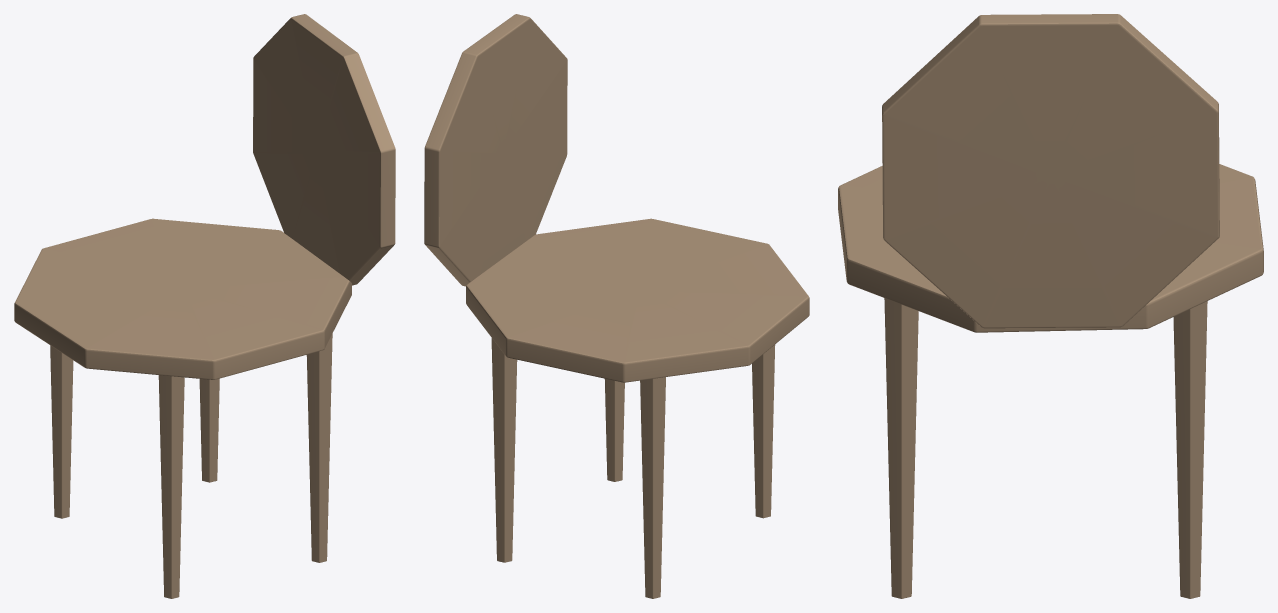
Rendered from Chair.fbx.
3 views of the same model, side by side, from view 1: azimuth 30°, elevation 25°; view 2: azimuth 150°, elevation 25°; view 3: azimuth 270°, elevation 25° (orthographic). The views are drawn at different scales.
Parts seen in each view (by area): view 1: pCylinder3, pCylinder4, pCylinder7, pCylinder9, pCylinder6, pCylinder8; view 2: pCylinder3, pCylinder4, pCylinder6, pCylinder8, pCylinder7, pCylinder9; view 3: pCylinder4, pCylinder3, pCylinder9, pCylinder8.
Part boxes in pixels (box(x1,y1,x2,y2)): pCylinder3: box(14, 218, 351, 379); pCylinder4: box(253, 14, 395, 285); pCylinder7: box(158, 375, 184, 598); pCylinder9: box(306, 333, 332, 562); pCylinder6: box(50, 345, 73, 518); pCylinder8: box(199, 378, 219, 482); pCylinder3: box(466, 218, 809, 382); pCylinder4: box(424, 14, 567, 286); pCylinder6: box(640, 377, 665, 598); pCylinder8: box(491, 338, 517, 562); pCylinder7: box(752, 344, 775, 518); pCylinder9: box(604, 378, 624, 481); pCylinder4: box(882, 14, 1219, 328); pCylinder3: box(838, 164, 1263, 332); pCylinder9: box(884, 297, 918, 598); pCylinder8: box(1173, 301, 1207, 598).
Size of the model in its own units: 2.91 by 4.5 by 2.82.
